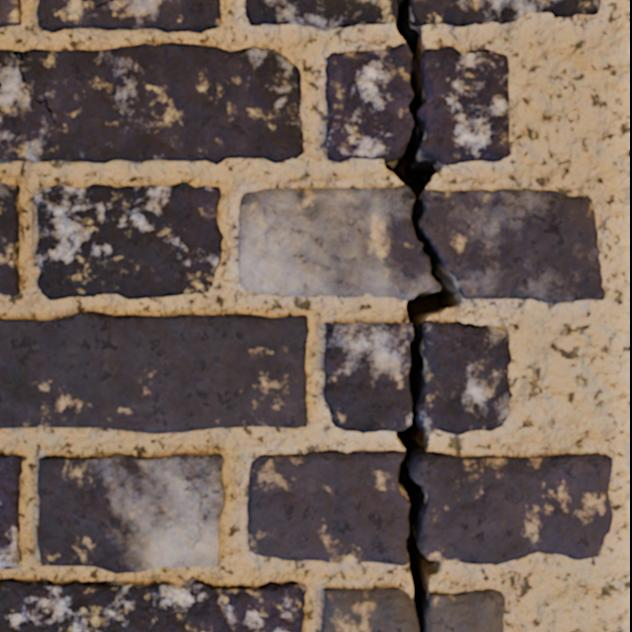brick: (0, 312, 308, 433), (0, 43, 302, 163), (37, 454, 224, 572), (34, 183, 222, 299), (0, 578, 306, 631), (37, 0, 220, 32), (0, 454, 21, 568), (0, 183, 19, 295), (0, 0, 20, 26)
broken_brick: (237, 184, 439, 300), (414, 450, 613, 565), (421, 188, 605, 304), (246, 449, 407, 566), (419, 45, 511, 165), (421, 319, 513, 435), (324, 42, 411, 163), (323, 321, 411, 433), (414, 0, 601, 27), (245, 0, 395, 31), (320, 586, 415, 631), (427, 588, 505, 631)
crack: (383, 0, 464, 631), (10, 49, 56, 125), (627, 0, 631, 631), (94, 0, 113, 8), (504, 54, 507, 62)
